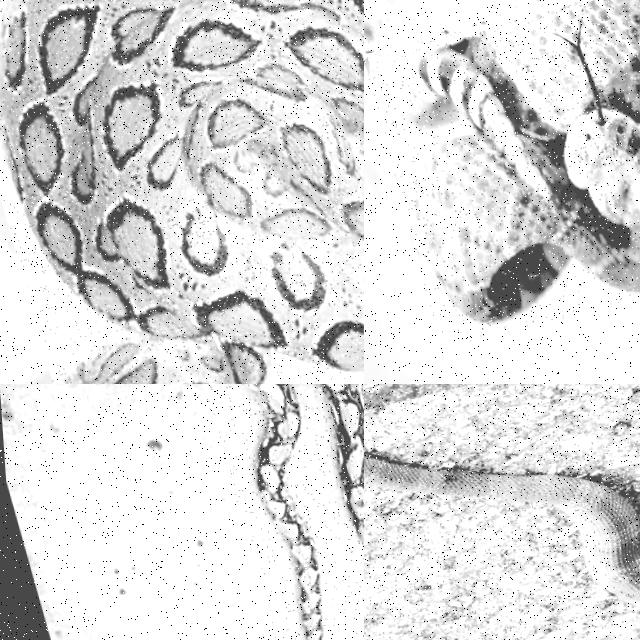Calloselasma rhodostoma: (382, 0, 639, 325)
Daboia siamensis: (0, 0, 363, 383)
Malayopython reticulatus: (246, 384, 324, 639)
Naja siamensis: (364, 456, 639, 604)
snake: (0, 0, 363, 383), (382, 0, 639, 325), (364, 456, 639, 604), (246, 384, 324, 639)
